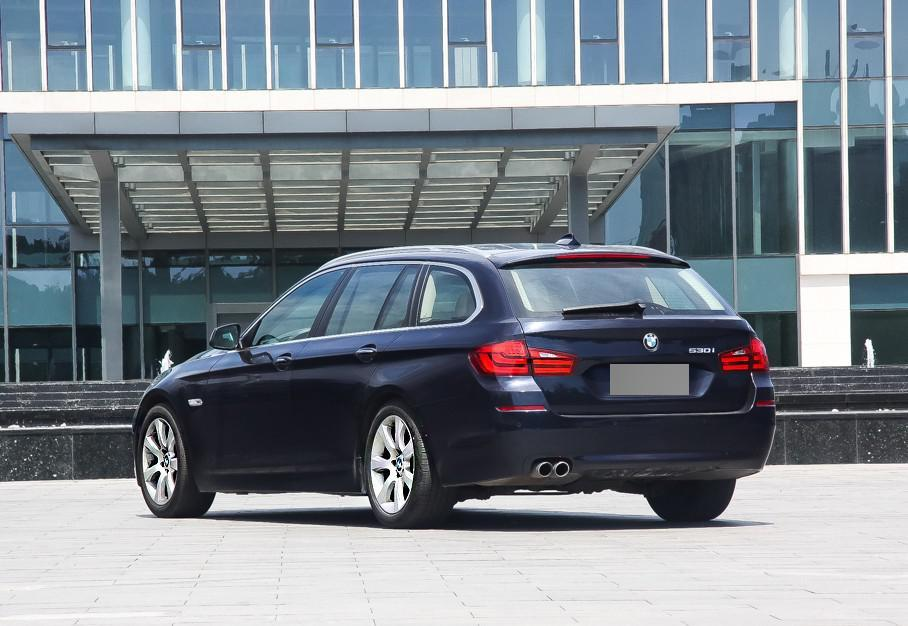Wagon: (133, 232, 776, 528)
